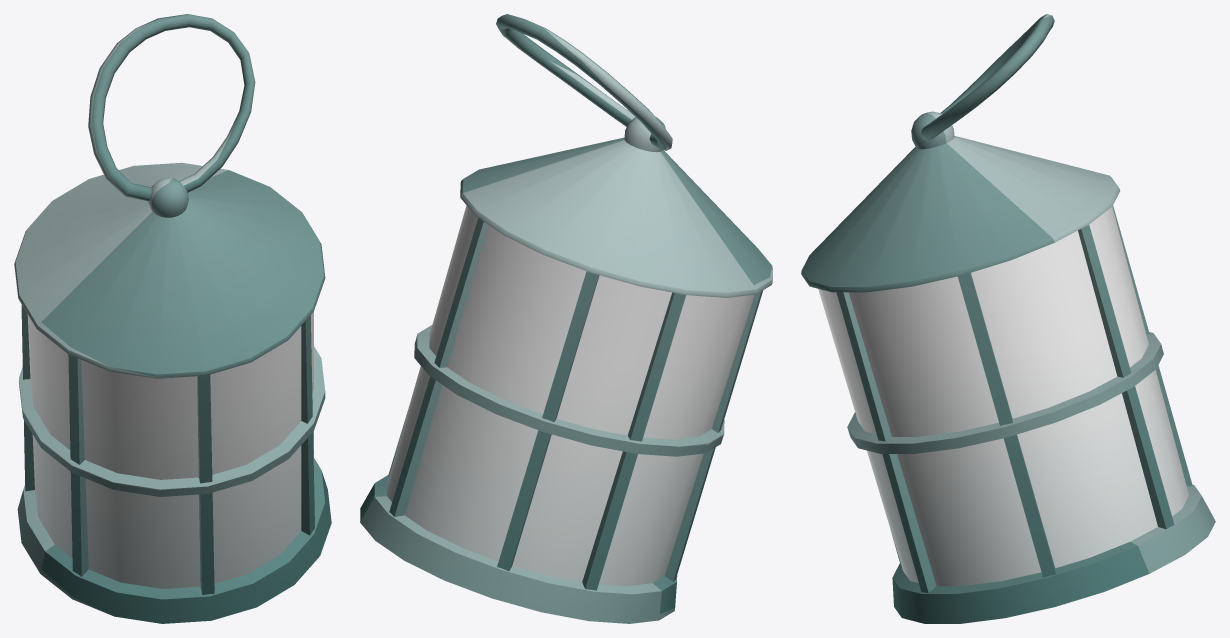
Rendered from Mercy_Lantern.fbx.
3 renders of one model, left to right at view 1: azimuth 30°, elevation 25°; view 2: azimuth 150°, elevation 25°; view 3: azimuth 270°, elevation 25°, orthographic. The views are drawn at different scales.
Visible parts, largest first — view 1: Mercy_Lantern; view 2: Mercy_Lantern; view 3: Mercy_Lantern.
Part boxes in pixels (<box>): Mercy_Lantern: <box>14,14,331,623</box>; Mercy_Lantern: <box>360,14,772,623</box>; Mercy_Lantern: <box>801,14,1215,623</box>.
Bounding box in the file's own units: 11.88 × 19.76 × 12.72.
